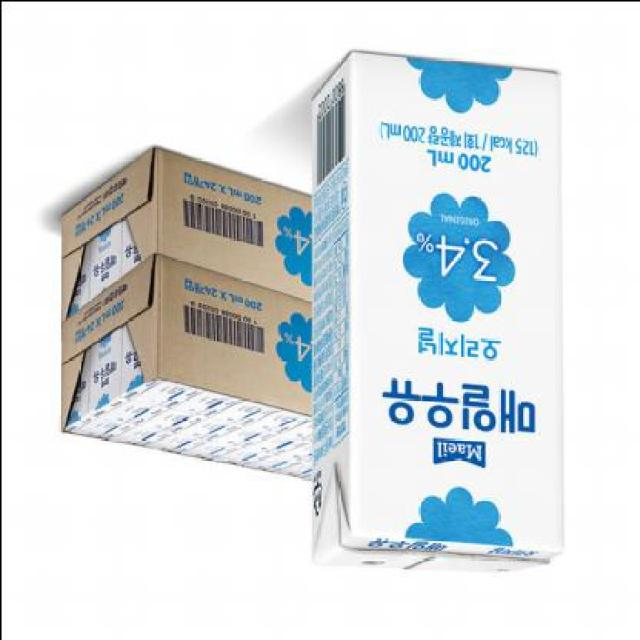tetra: (277, 40, 598, 603)
